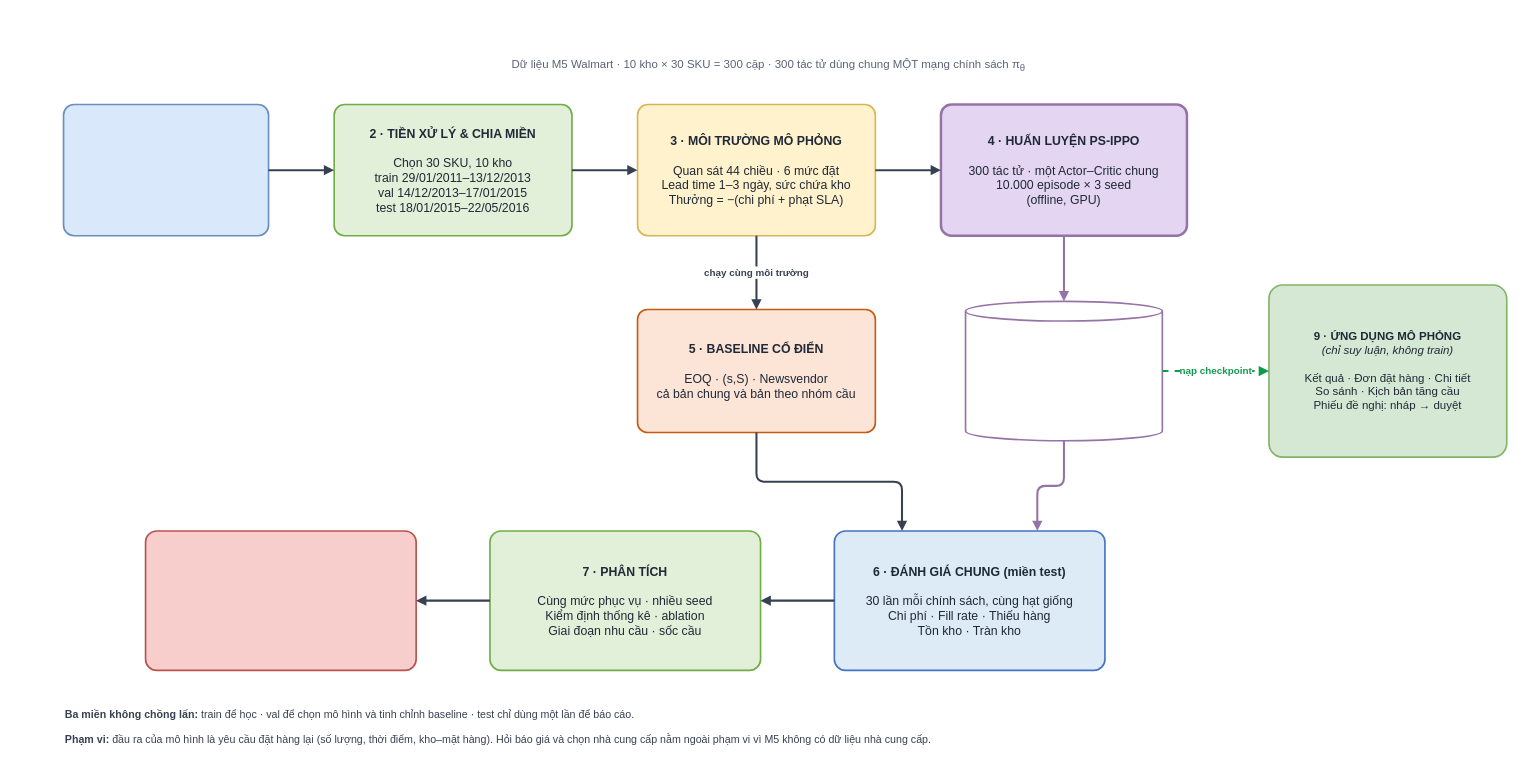
Some shapes in this 1537 by 764 pixel diagram are drawn without their labels. Here are the shapes that lost their labels. From the top down, the box of each, then its label:
(62, 103, 269, 236): 1 · DỮ LIỆU M5 Bán hàng theo ngày Lịch & sự kiện Giá bán theo tuần
(964, 300, 1163, 441): Checkpoint best_model.pth (chọn theo miền val)
(144, 530, 417, 671): 8 · ĐẦU RA Bảng & hình kết quả Báo cáo LaTeX Poster
